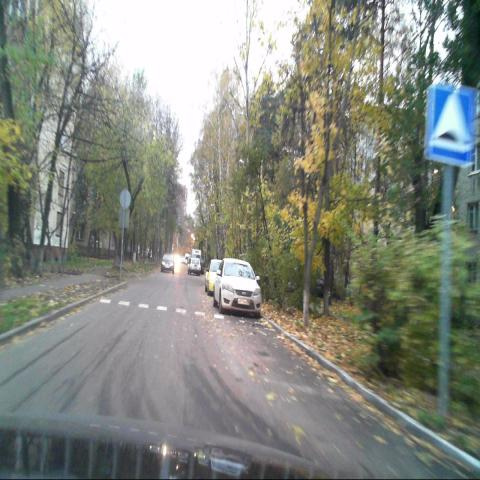5_20: (429, 83, 473, 161)
